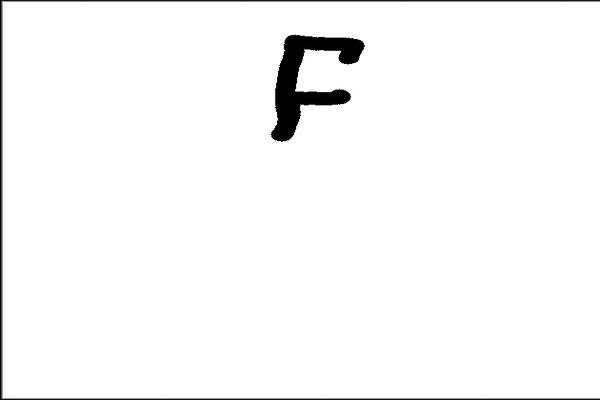F: (263, 29, 366, 145)
